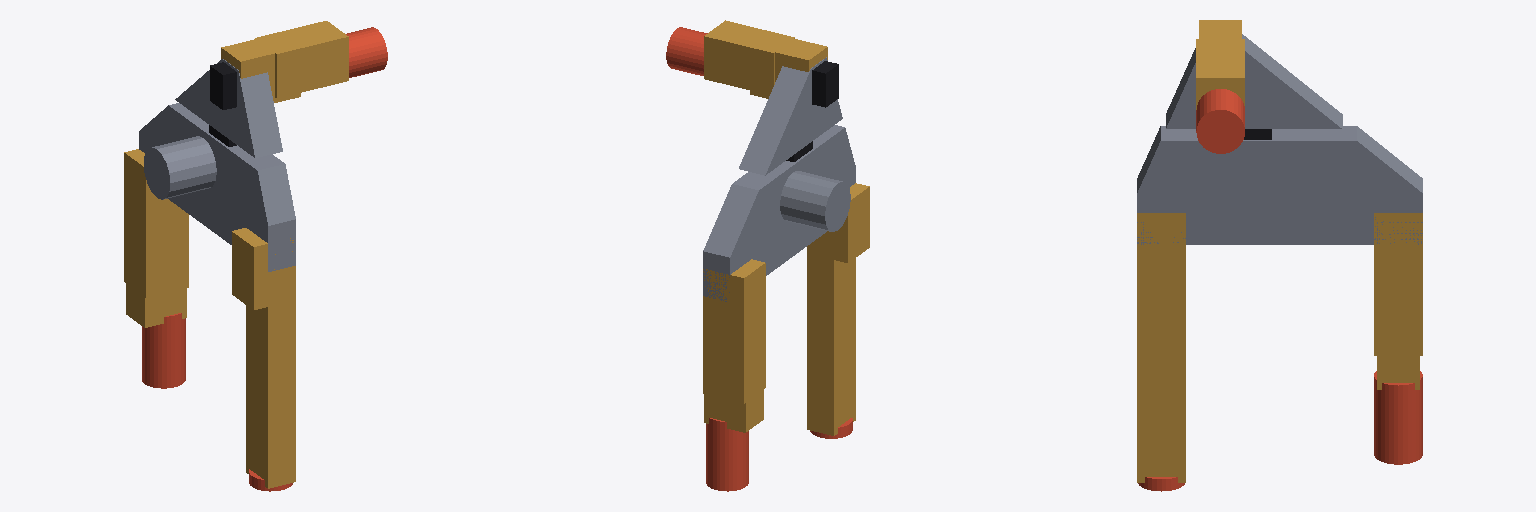
The robot description file, URDF, robot "coarse_s0_016":
<robot name="coarse_s0_016">
  <link name="palm">
    <visual name="palm_palm1">
      <origin xyz="0 0 0" rpy="0 0 0" />
      <geometry>
        <mesh filename="palm_palm1.obj" />
      </geometry>
      <material name="palm_palm1_mat">
        <color rgba="0.55 0.57 0.62 1" />
      </material>
    </visual>
    <collision>
      <origin xyz="0 0 0" rpy="0 0 0" />
      <geometry>
        <mesh filename="palm_palm1.obj" />
      </geometry>
    </collision>
    <visual name="palm_mount2">
      <origin xyz="0 0 0" rpy="0 0 0" />
      <geometry>
        <mesh filename="palm_mount2.obj" />
      </geometry>
      <material name="palm_mount2_mat">
        <color rgba="0.55 0.57 0.62 1" />
      </material>
    </visual>
    <collision>
      <origin xyz="0 0 0" rpy="0 0 0" />
      <geometry>
        <mesh filename="palm_mount2.obj" />
      </geometry>
    </collision>
    <visual name="palm_hinge3">
      <origin xyz="0 -0.02 0.0225" rpy="-1.57079633 -6.123234e-17 1.57079633" />
      <geometry>
        <box size="0.029 0.034 0.02" />
      </geometry>
      <material name="palm_hinge3_mat">
        <color rgba="0.15 0.15 0.17 1" />
      </material>
    </visual>
    <collision>
      <origin xyz="0 -0.02 0.0225" rpy="-1.57079633 -6.123234e-17 1.57079633" />
      <geometry>
        <box size="0.029 0.034 0.02" />
      </geometry>
    </collision>
    <visual name="palm_motor4">
      <origin xyz="0 -0.08 -0.0325" rpy="1.57079633 1.2246468e-16 -1.57079633" />
      <geometry>
        <box size="0.029 0.034 0.02" />
      </geometry>
      <material name="palm_motor4_mat">
        <color rgba="0.15 0.15 0.17 1" />
      </material>
    </visual>
    <collision>
      <origin xyz="0 -0.08 -0.0325" rpy="1.57079633 1.2246468e-16 -1.57079633" />
      <geometry>
        <box size="0.029 0.034 0.02" />
      </geometry>
    </collision>
    <visual name="palm_motor5">
      <origin xyz="0 0.08 -0.0325" rpy="1.57079633 1.2246468e-16 -1.57079633" />
      <geometry>
        <box size="0.029 0.034 0.02" />
      </geometry>
      <material name="palm_motor5_mat">
        <color rgba="0.15 0.15 0.17 1" />
      </material>
    </visual>
    <collision>
      <origin xyz="0 0.08 -0.0325" rpy="1.57079633 1.2246468e-16 -1.57079633" />
      <geometry>
        <box size="0.029 0.034 0.02" />
      </geometry>
    </collision>
    <inertial>
      <origin xyz="-2.14351131e-19 -0.00311414308 -0.0150918675" rpy="1.57079633 0.0367844252 1.57079633" />
      <mass value="0.576277052" />
      <inertia ixx="0.000297467029" ixy="0" ixz="0" iyy="0.00160980783" iyz="0" izz="0.00185195226" />
    </inertial>
  </link>
  <link name="palm0">
    <visual name="palm0_palm1">
      <origin xyz="0 0 0" rpy="0 0 0" />
      <geometry>
        <mesh filename="palm0_palm1.obj" />
      </geometry>
      <material name="palm0_palm1_mat">
        <color rgba="0.55 0.57 0.62 1" />
      </material>
    </visual>
    <collision>
      <origin xyz="0 0 0" rpy="0 0 0" />
      <geometry>
        <mesh filename="palm0_palm1.obj" />
      </geometry>
    </collision>
    <visual name="palm0_motor2">
      <origin xyz="-0.007 -0.02 0.05" rpy="-1.57079633 1.57079633 0" />
      <geometry>
        <box size="0.029 0.034 0.02" />
      </geometry>
      <material name="palm0_motor2_mat">
        <color rgba="0.15 0.15 0.17 1" />
      </material>
    </visual>
    <collision>
      <origin xyz="-0.007 -0.02 0.05" rpy="-1.57079633 1.57079633 0" />
      <geometry>
        <box size="0.029 0.034 0.02" />
      </geometry>
    </collision>
    <inertial>
      <origin xyz="0 -0.00617859372 0.0284911327" rpy="-1.57079633 0.241466287 1.57079633" />
      <mass value="0.187584794" />
      <inertia ixx="5.59518029e-05" ixy="0" ixz="0" iyy="0.000136709771" iyz="0" izz="0.000174653434" />
    </inertial>
  </link>
  <link name="f0_link0">
    <visual name="f0_link0_link1">
      <origin xyz="0.014 -0.00625 0" rpy="0 -0 0" />
      <geometry>
        <box size="0.052 0.0365 0.033" />
      </geometry>
      <material name="f0_link0_link1_mat">
        <color rgba="0.80 0.62 0.30 1" />
      </material>
    </visual>
    <collision>
      <origin xyz="0.014 -0.00625 0" rpy="0 -0 0" />
      <geometry>
        <box size="0.052 0.0365 0.033" />
      </geometry>
    </collision>
    <inertial>
      <origin xyz="0.014 -0.00625 0" rpy="0 0 0" />
      <mass value="0.1096095" />
      <inertia ixx="2.21160002e-05" ixy="0" ixz="0" iyy="3.46457361e-05" iyz="0" izz="3.6867612e-05" />
    </inertial>
  </link>
  <link name="f0_link1">
    <visual name="f0_link1_link1">
      <origin xyz="0.03875 0 0" rpy="0 -0 0" />
      <geometry>
        <box size="0.1015 0.024 0.033" />
      </geometry>
      <material name="f0_link1_link1_mat">
        <color rgba="0.80 0.62 0.30 1" />
      </material>
    </visual>
    <collision>
      <origin xyz="0.03875 0 0" rpy="0 -0 0" />
      <geometry>
        <box size="0.1015 0.024 0.033" />
      </geometry>
    </collision>
    <inertial>
      <origin xyz="0.03875 0 0" rpy="0 0 0" />
      <mass value="0.140679" />
      <inertia ixx="1.95192113e-05" ixy="0" ixz="0" iyy="0.000133542472" iyz="0" izz="0.000127528444" />
    </inertial>
  </link>
  <link name="f0_link2">
    <visual name="f0_link2_link1">
      <origin xyz="0.03375 0 1.38777878e-17" rpy="0 -0 0" />
      <geometry>
        <box size="0.0915 0.024 0.033" />
      </geometry>
      <material name="f0_link2_link1_mat">
        <color rgba="0.80 0.62 0.30 1" />
      </material>
    </visual>
    <collision>
      <origin xyz="0.03375 0 1.38777878e-17" rpy="0 -0 0" />
      <geometry>
        <box size="0.0915 0.024 0.033" />
      </geometry>
    </collision>
    <inertial>
      <origin xyz="0.03375 0 0" rpy="0 0 0" />
      <mass value="0.126819" />
      <inertia ixx="1.75961363e-05" ixy="0" ixz="0" iyy="9.99888553e-05" iyz="0" izz="9.45673431e-05" />
    </inertial>
  </link>
  <link name="f0_link3">
    <visual name="f0_link3_link1">
      <origin xyz="0.009 0 0" rpy="-1.57079633 -0 -1.57079633" />
      <geometry>
        <cylinder radius="0.0165" length="0.009" />
      </geometry>
      <material name="f0_link3_link1_mat">
        <color rgba="0.85 0.35 0.25 1" />
      </material>
    </visual>
    <collision>
      <origin xyz="0.009 0 0" rpy="-1.57079633 -0 -1.57079633" />
      <geometry>
        <cylinder radius="0.0165" length="0.009" />
      </geometry>
    </collision>
    <inertial>
      <origin xyz="0.009 0 0" rpy="0 0 0" />
      <mass value="0.046399949" />
      <inertia ixx="5.41970115e-06" ixy="0" ixz="0" iyy="7.09430898e-06" iyz="0" izz="7.09430898e-06" />
    </inertial>
  </link>
  <link name="f1_link0">
    <visual name="f1_link0_link1">
      <origin xyz="0.014 -0.004 0" rpy="0 -0 0" />
      <geometry>
        <box size="0.052 0.041 0.029" />
      </geometry>
      <material name="f1_link0_link1_mat">
        <color rgba="0.80 0.62 0.30 1" />
      </material>
    </visual>
    <collision>
      <origin xyz="0.014 -0.004 0" rpy="0 -0 0" />
      <geometry>
        <box size="0.052 0.041 0.029" />
      </geometry>
    </collision>
    <inertial>
      <origin xyz="0.014 -0.004 0" rpy="0 0 0" />
      <mass value="0.108199" />
      <inertia ixx="2.27398232e-05" ixy="0" ixz="0" iyy="3.19637879e-05" iyz="0" izz="3.95377179e-05" />
    </inertial>
  </link>
  <link name="f1_link1">
    <visual name="f1_link1_link1">
      <origin xyz="0.019 -0.00625 0" rpy="0 -0 0" />
      <geometry>
        <box size="0.062 0.0365 0.033" />
      </geometry>
      <material name="f1_link1_link1_mat">
        <color rgba="0.80 0.62 0.30 1" />
      </material>
    </visual>
    <collision>
      <origin xyz="0.019 -0.00625 0" rpy="0 -0 0" />
      <geometry>
        <box size="0.062 0.0365 0.033" />
      </geometry>
    </collision>
    <inertial>
      <origin xyz="0.019 -0.00625 0" rpy="0 0 0" />
      <mass value="0.13068825" />
      <inertia ixx="2.63690771e-05" ixy="0" ixz="0" iyy="5.37237614e-05" iyz="0" izz="5.63729212e-05" />
    </inertial>
  </link>
  <link name="f1_link2">
    <visual name="f1_link2_link1">
      <origin xyz="0.024 6.9388939e-18 0" rpy="-1.57079633 -0 -1.57079633" />
      <geometry>
        <cylinder radius="0.0165" length="0.039" />
      </geometry>
      <material name="f1_link2_link1_mat">
        <color rgba="0.85 0.35 0.25 1" />
      </material>
    </visual>
    <collision>
      <origin xyz="0.024 6.9388939e-18 0" rpy="-1.57079633 -0 -1.57079633" />
      <geometry>
        <cylinder radius="0.0165" length="0.039" />
      </geometry>
    </collision>
    <inertial>
      <origin xyz="0.024 0 0" rpy="0 0 0" />
      <mass value="0.0913031255" />
      <inertia ixx="1.1532146e-05" ixy="0" ixz="0" iyy="3.54254069e-05" iyz="0" izz="3.54254069e-05" />
    </inertial>
  </link>
  <link name="f2_link0">
    <visual name="f2_link0_link1">
      <origin xyz="0.04125 -0.00625 1.38777878e-17" rpy="0 -0 0" />
      <geometry>
        <box size="0.1065 0.0365 0.033" />
      </geometry>
      <material name="f2_link0_link1_mat">
        <color rgba="0.80 0.62 0.30 1" />
      </material>
    </visual>
    <collision>
      <origin xyz="0.04125 -0.00625 1.38777878e-17" rpy="0 -0 0" />
      <geometry>
        <box size="0.1065 0.0365 0.033" />
      </geometry>
    </collision>
    <inertial>
      <origin xyz="0.04125 -0.00625 0" rpy="0 0 0" />
      <mass value="0.224488688" />
      <inertia ixx="4.52952696e-05" ixy="0" ixz="0" iyy="0.00023255625" iyz="0" izz="0.000237106822" />
    </inertial>
  </link>
  <link name="f2_link1">
    <visual name="f2_link1_link1">
      <origin xyz="0.01175 -0.00625 0" rpy="0 -0 0" />
      <geometry>
        <box size="0.0565 0.0365 0.029" />
      </geometry>
      <material name="f2_link1_link1_mat">
        <color rgba="0.80 0.62 0.30 1" />
      </material>
    </visual>
    <collision>
      <origin xyz="0.01175 -0.00625 0" rpy="0 -0 0" />
      <geometry>
        <box size="0.0565 0.0365 0.029" />
      </geometry>
    </collision>
    <inertial>
      <origin xyz="0.01175 -0.00625 0" rpy="0 0 0" />
      <mass value="0.104659188" />
      <inertia ixx="1.89542149e-05" ixy="0" ixz="0" iyy="3.5176389e-05" iyz="0" izz="3.94608745e-05" />
    </inertial>
  </link>
  <link name="f2_link2">
    <visual name="f2_link2_link1">
      <origin xyz="0.034 0 0" rpy="-1.57079633 -0 -1.57079633" />
      <geometry>
        <cylinder radius="0.0165" length="0.059" />
      </geometry>
      <material name="f2_link2_link1_mat">
        <color rgba="0.85 0.35 0.25 1" />
      </material>
    </visual>
    <collision>
      <origin xyz="0.034 0 0" rpy="-1.57079633 -0 -1.57079633" />
      <geometry>
        <cylinder radius="0.0165" length="0.059" />
      </geometry>
    </collision>
    <inertial>
      <origin xyz="0.034 0 0" rpy="0 0 0" />
      <mass value="0.121238577" />
      <inertia ixx="1.56071093e-05" ixy="0" ixz="0" iyy="7.58912764e-05" iyz="0" izz="7.58912764e-05" />
    </inertial>
  </link>
  <joint name="palm0_joint" type="revolute">
    <parent link="palm" />
    <child link="palm0" />
    <origin xyz="0 -0.02 0.03" rpy="0 0 0" />
    <axis xyz="0 1 6.123234e-17" />
    <limit effort="0.5" lower="-0.523598776" upper="0.523598776" velocity="5" />
    <dynamics damping="0.0775033" friction="0" />
  </joint>
  <joint name="f0_j0" type="revolute">
    <parent link="palm" />
    <child link="f0_link0" />
    <origin xyz="0 -0.08 -0.04" rpy="1.57079633 1.57079633 0" />
    <axis xyz="0 0 1" />
    <limit effort="0.5" lower="-0.523598776" upper="1.57079633" velocity="5" />
    <dynamics damping="0.0775033" friction="0" />
  </joint>
  <joint name="f0_j1" type="revolute">
    <parent link="f0_link0" />
    <child link="f0_link1" />
    <origin xyz="0.03 0 0" rpy="0 0 0" />
    <axis xyz="0 0 1" />
    <limit effort="0.5" lower="-0.523598776" upper="1.57079633" velocity="5" />
    <dynamics damping="0.0775033" friction="0" />
  </joint>
  <joint name="f0_j2" type="revolute">
    <parent link="f0_link1" />
    <child link="f0_link2" />
    <origin xyz="0.08 0 0" rpy="0 0 0" />
    <axis xyz="0 0 1" />
    <limit effort="0.5" lower="-0.523598776" upper="1.57079633" velocity="5" />
    <dynamics damping="0.0775033" friction="0" />
  </joint>
  <joint name="f0_j3" type="revolute">
    <parent link="f0_link2" />
    <child link="f0_link3" />
    <origin xyz="0.07 0 0" rpy="0 0 0" />
    <axis xyz="0 0 1" />
    <limit effort="0.5" lower="-0.523598776" upper="1.57079633" velocity="5" />
    <dynamics damping="0.0775033" friction="0" />
  </joint>
  <joint name="f1_j0" type="revolute">
    <parent link="palm0" />
    <child link="f1_link0" />
    <origin xyz="0.0005 -0.02 0.05" rpy="-1.57079633 -6.123234e-17 0" />
    <axis xyz="-0 -1 -6.123234e-17" />
    <limit effort="0.5" lower="-0.523598776" upper="0.523598776" velocity="5" />
    <dynamics damping="0.0775033" friction="0" />
  </joint>
  <joint name="f1_j1" type="revolute">
    <parent link="f1_link0" />
    <child link="f1_link1" />
    <origin xyz="0.03 0 0" rpy="0 0 0" />
    <axis xyz="0 0 1" />
    <limit effort="0.5" lower="-0.523598776" upper="1.57079633" velocity="5" />
    <dynamics damping="0.0775033" friction="0" />
  </joint>
  <joint name="f1_j2" type="revolute">
    <parent link="f1_link1" />
    <child link="f1_link2" />
    <origin xyz="0.04 0 0" rpy="0 0 0" />
    <axis xyz="0 0 1" />
    <limit effort="0.5" lower="-0.523598776" upper="1.57079633" velocity="5" />
    <dynamics damping="0.0775033" friction="0" />
  </joint>
  <joint name="f2_j0" type="revolute">
    <parent link="palm" />
    <child link="f2_link0" />
    <origin xyz="0 0.08 -0.04" rpy="1.57079633 1.57079633 0" />
    <axis xyz="0 0 1" />
    <limit effort="0.5" lower="-0.523598776" upper="1.57079633" velocity="5" />
    <dynamics damping="0.0775033" friction="0" />
  </joint>
  <joint name="f2_j1" type="revolute">
    <parent link="f2_link0" />
    <child link="f2_link1" />
    <origin xyz="0.08 0 0" rpy="0 0 0" />
    <axis xyz="1 0 6.123234e-17" />
    <limit effort="0.5" lower="-1.57079633" upper="1.57079633" velocity="5" />
    <dynamics damping="0.0775033" friction="0" />
  </joint>
  <joint name="f2_j2" type="revolute">
    <parent link="f2_link1" />
    <child link="f2_link2" />
    <origin xyz="0.03 0 0" rpy="0 0 0" />
    <axis xyz="0 0 1" />
    <limit effort="0.5" lower="-0.523598776" upper="1.57079633" velocity="5" />
    <dynamics damping="0.0775033" friction="0" />
  </joint>
</robot>

--- Facts derived from the render (not from the file) ---
The picture shows the robot from 3 angles, left to right: view 1: azimuth 30°, elevation 25°; view 2: azimuth 150°, elevation 25°; view 3: azimuth 270°, elevation 25°; orthographic projection.
Model coarse_s0_016 with 12 links and 11 joints (11 revolute), rooted at palm, posed every joint at zero.
Visible links, largest first — view 1: palm, f2_link0, palm0, f0_link2, f1_link1, f0_link1, f0_link0, f2_link2, f2_link1, f1_link0, f1_link2; view 2: palm, f2_link0, palm0, f0_link1, f1_link1, f0_link2, f2_link2, f2_link1, f0_link0, f1_link2, f1_link0; view 3: palm, palm0, f2_link0, f0_link1, f0_link2, f2_link2, f0_link0, f1_link2, f1_link1, f2_link1, f1_link0.
Boxes of the visible links, x1,y1,x2,y2 form: palm: [139, 103, 295, 271]; f2_link0: [124, 149, 188, 297]; palm0: [175, 59, 282, 157]; f0_link2: [246, 363, 295, 488]; f1_link1: [255, 21, 348, 98]; f0_link1: [246, 274, 295, 400]; f0_link0: [232, 228, 295, 309]; f2_link2: [142, 313, 185, 388]; f2_link1: [126, 284, 186, 327]; f1_link0: [221, 39, 300, 102]; f1_link2: [346, 27, 387, 77]; palm: [703, 125, 855, 301]; f2_link0: [703, 259, 765, 403]; palm0: [739, 57, 842, 175]; f0_link1: [807, 232, 855, 352]; f1_link1: [704, 20, 794, 94]; f0_link2: [807, 322, 855, 435]; f2_link2: [706, 418, 748, 491]; f2_link1: [704, 356, 763, 432]; f0_link0: [807, 183, 869, 262]; f1_link2: [666, 27, 707, 75]; f1_link0: [750, 32, 827, 98]; palm: [1137, 126, 1422, 244]; palm0: [1166, 34, 1342, 128]; f2_link0: [1374, 213, 1422, 355]; f0_link1: [1137, 253, 1185, 388]; f0_link2: [1137, 361, 1185, 482]; f2_link2: [1374, 371, 1422, 464]; f0_link0: [1137, 213, 1185, 282]; f1_link2: [1196, 89, 1244, 153]; f1_link1: [1196, 39, 1244, 109]; f2_link1: [1377, 314, 1419, 389]; f1_link0: [1199, 20, 1241, 52].
Size in the robot's own frame: 0.166 by 0.193 by 0.338 metres.
3 mesh visuals loaded from 3 distinct referenced files (3 OBJ).
